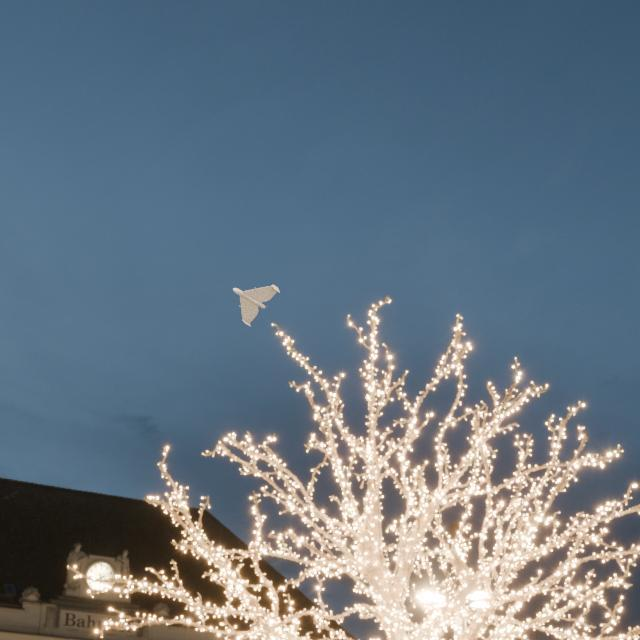Airaplan: (233, 285, 280, 327)
